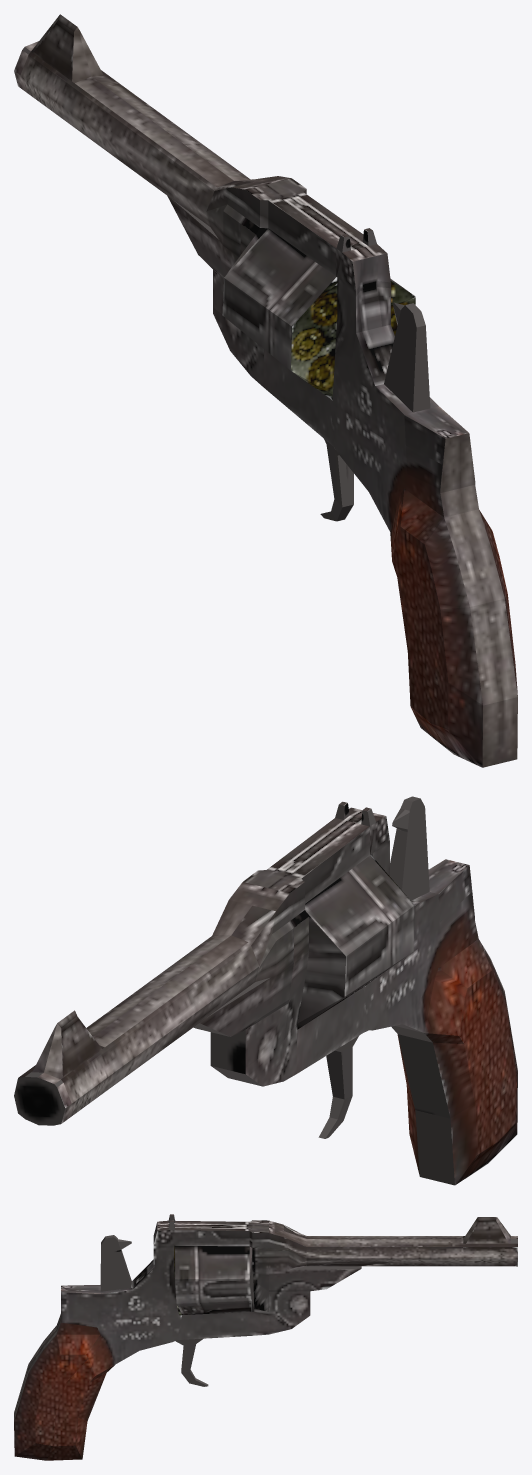
Rendered from REVOLVER.fbx.
The picture shows the model from 3 angles, top to bottom: view 1: azimuth 30°, elevation 25°; view 2: azimuth 150°, elevation 25°; view 3: azimuth 270°, elevation 25°; orthographic projection. The views are drawn at different scales.
Parts seen in each view (by area): view 1: Cube; view 2: Cube; view 3: Cube.
Boxes of the visible parts, bbox=[...] form: Cube: bbox=[14, 14, 517, 767]; Cube: bbox=[14, 796, 517, 1185]; Cube: bbox=[14, 1214, 517, 1460].
Bounding box in the file's own units: 6.74 × 22.71 × 43.37.
Materials: 1 (1 with a texture image).
